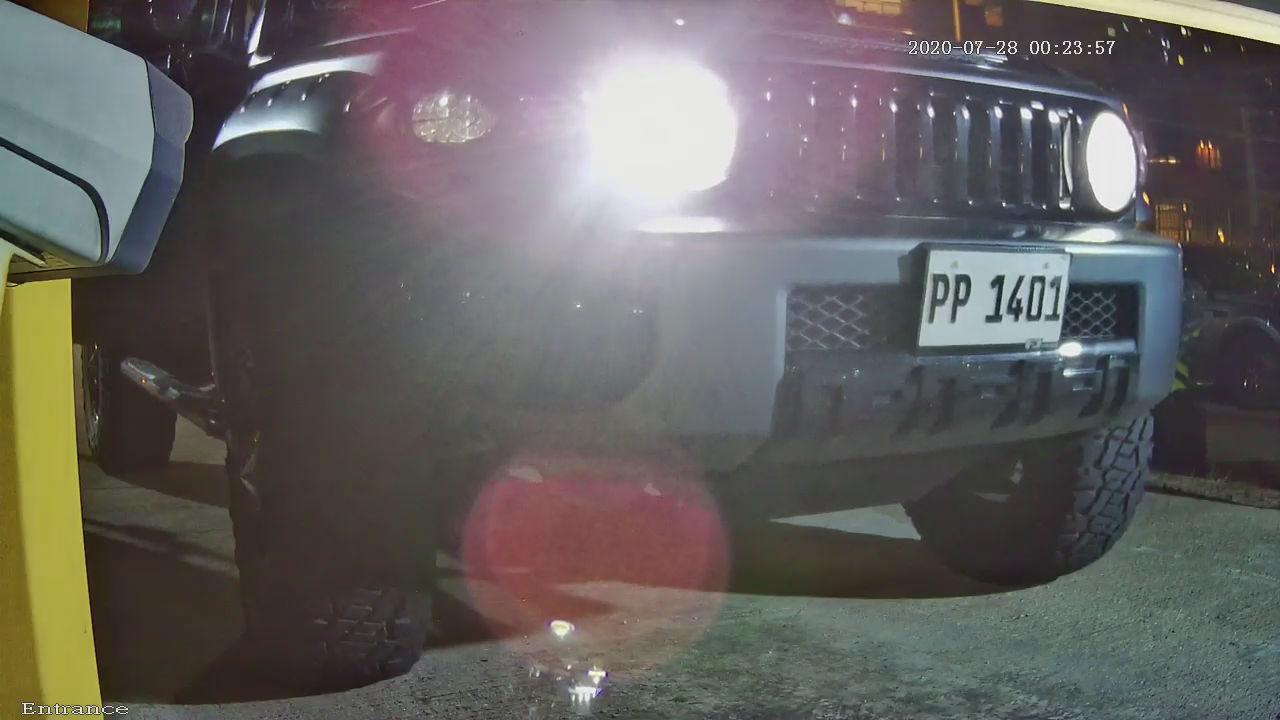privatecar: (115, 1, 1275, 682)
